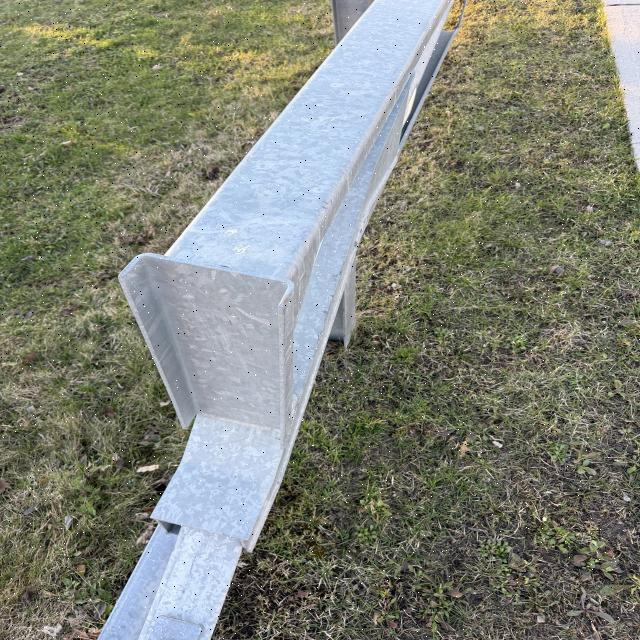Guard rail: (120, 6, 463, 606)
